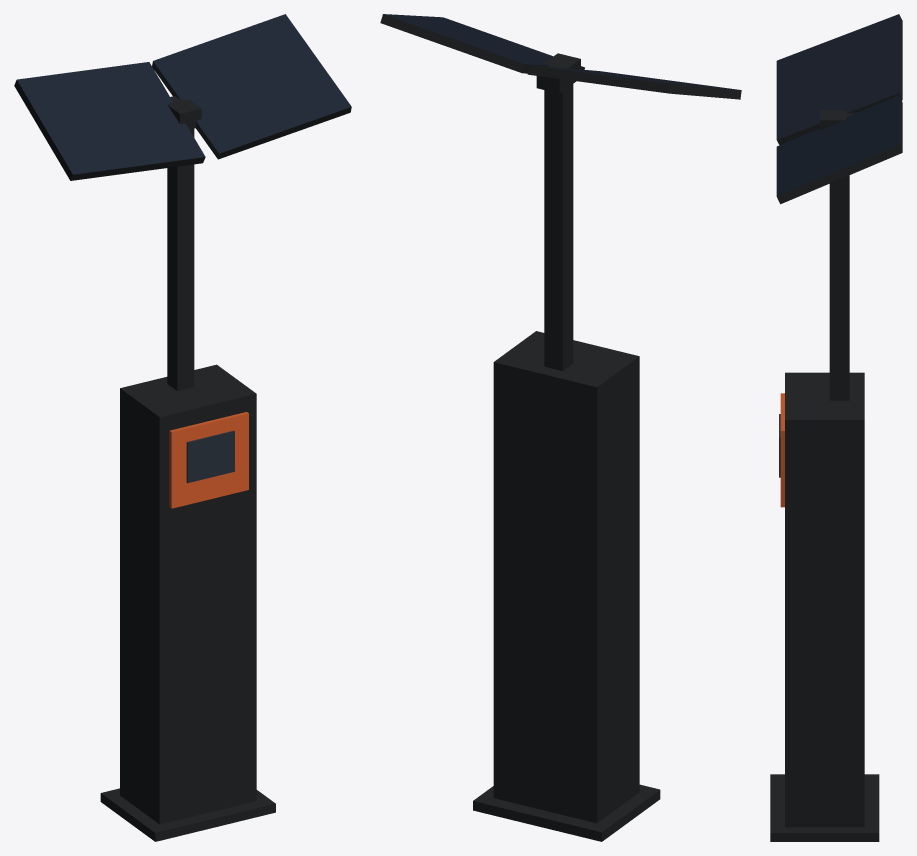
File: bike-share-kiosk.glb
3 views of the same model, side by side, from view 1: azimuth 30°, elevation 25°; view 2: azimuth 150°, elevation 25°; view 3: azimuth 270°, elevation 25° (orthographic). The views are drawn at different scales.
Parts seen in each view (by area): view 1: bike-share-kiosk; view 2: bike-share-kiosk; view 3: bike-share-kiosk.
Boxes of the visible parts, bbox=[...] form: bike-share-kiosk: bbox=[14, 14, 351, 841]; bike-share-kiosk: bbox=[380, 14, 741, 841]; bike-share-kiosk: bbox=[770, 14, 902, 841].
Bounding box in the file's own units: 1.3 × 3.26 × 0.5337.
1 material, 1 textured.
